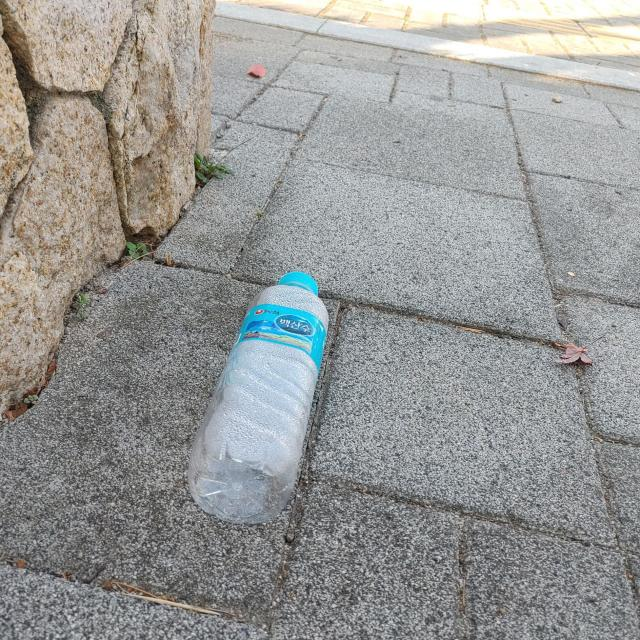plastic: (188, 272, 328, 524)
